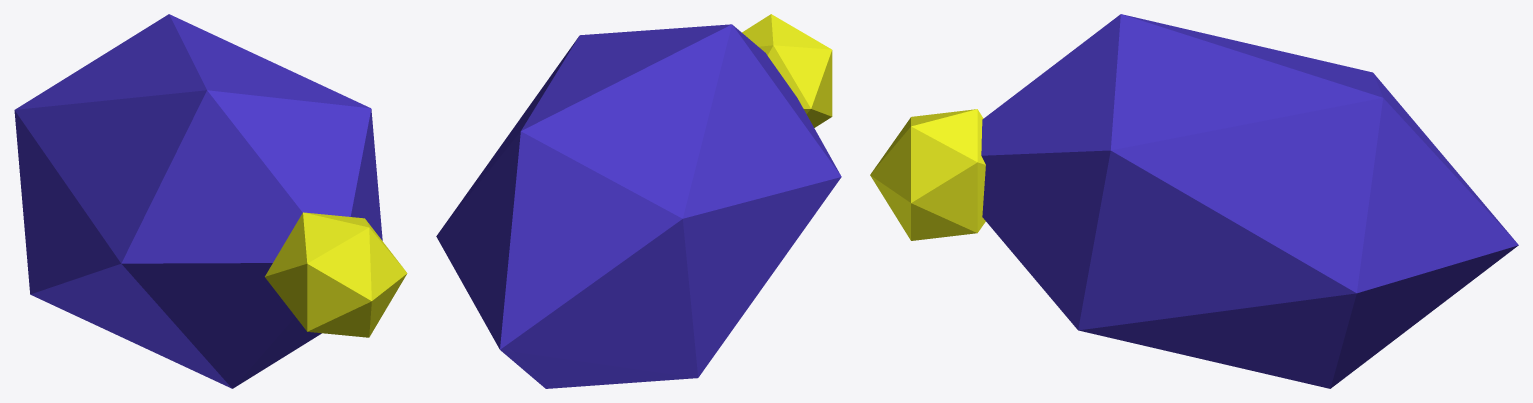
File: streptococcus_pyogenes_neck.obj
3 views of the same model, side by side, from view 1: azimuth 30°, elevation 25°; view 2: azimuth 150°, elevation 25°; view 3: azimuth 270°, elevation 25° (orthographic). The views are drawn at different scales.
Parts seen in each view (by area): view 1: pasted__pPlatonic1 group19 group20, group19 group20 pasted__pasted__pasted__pPlatonic3; view 2: pasted__pPlatonic1 group19 group20, group19 group20 pasted__pasted__pasted__pPlatonic3; view 3: pasted__pPlatonic1 group19 group20, group19 group20 pasted__pasted__pasted__pPlatonic3.
Part boxes in pixels (x1,y1,x2,y2): pasted__pPlatonic1 group19 group20: (14, 14, 382, 388); group19 group20 pasted__pasted__pasted__pPlatonic3: (265, 212, 407, 337); pasted__pPlatonic1 group19 group20: (436, 24, 841, 388); group19 group20 pasted__pasted__pasted__pPlatonic3: (742, 14, 832, 127); pasted__pPlatonic1 group19 group20: (981, 14, 1518, 388); group19 group20 pasted__pasted__pasted__pPlatonic3: (870, 109, 985, 240).
Bounding box in the file's own units: 1.79 × 1.9 × 3.39.
Materials: 1 (1 with a texture image).
